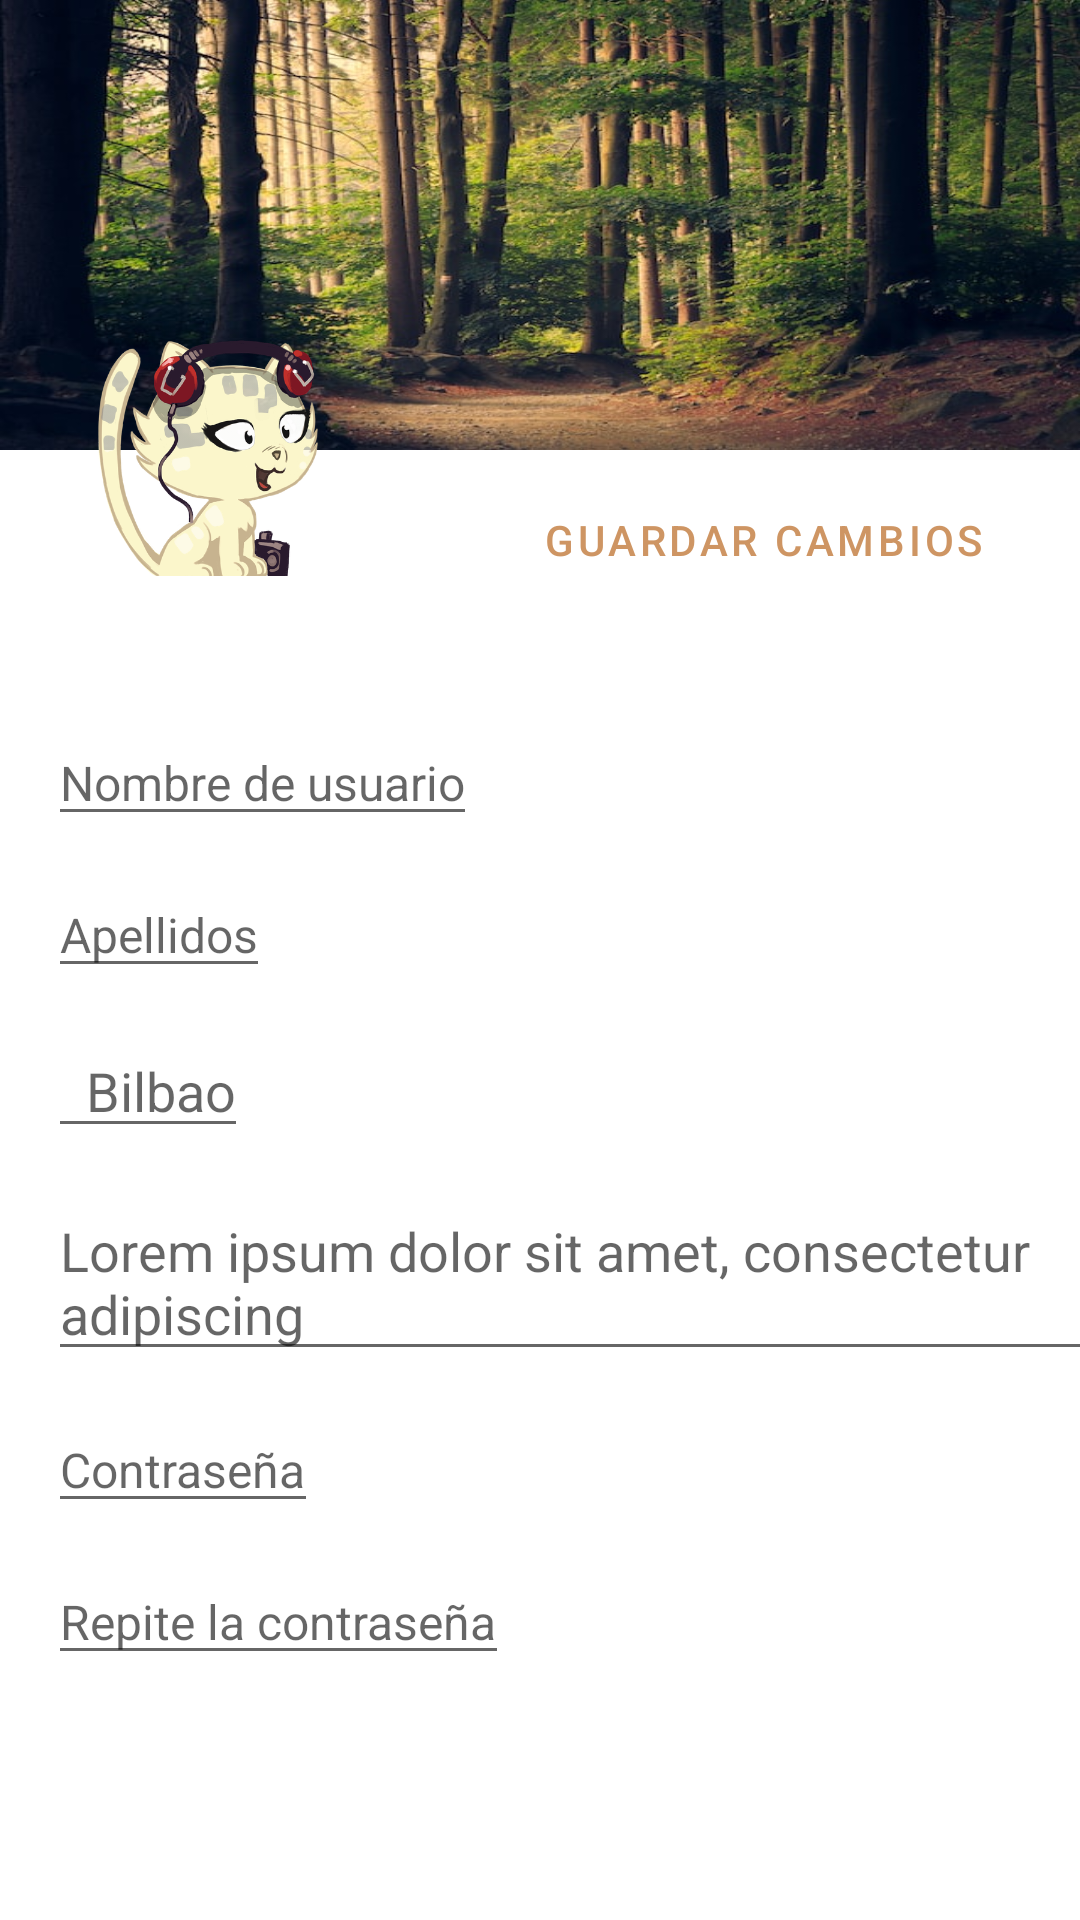

Where to tap for icons on this 1080x1920 app screen, as (x,y):
perfil: (206,456)
